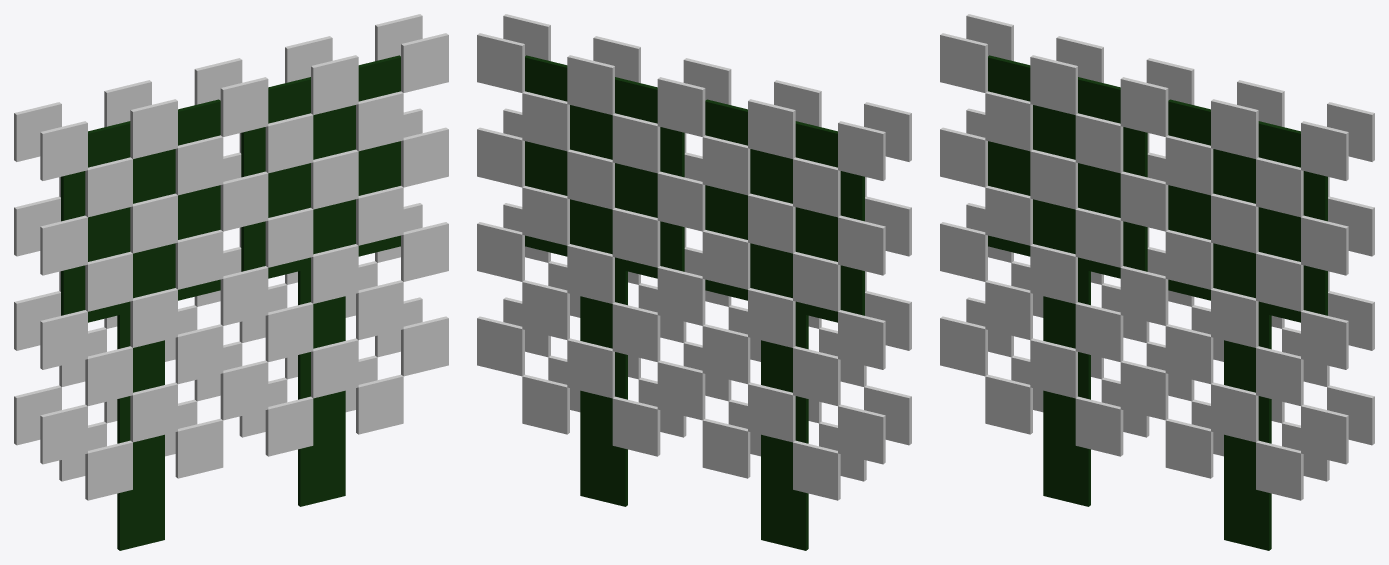
File: DozeFog.fbx
The picture shows the model from 3 angles, left to right: view 1: azimuth 30°, elevation 25°; view 2: azimuth 150°, elevation 25°; view 3: azimuth 330°, elevation 25°; orthographic projection.
Parts seen in each view (by area): view 1: Cube.009, Cube.011, Cube.008, Cube.010, Cube.002, Cube.033, Cube.024, Cube.034, Cube.003, Cube.001, Cube.005, Cube.023 (+48 smaller); view 2: Cube.009, Cube.011, Cube.008, Cube.010, Cube.051, Cube.069, Cube.060, Cube.070, Cube.041, Cube.050, Cube.052, Cube.059 (+48 smaller); view 3: Cube.011, Cube.009, Cube.010, Cube.008, Cube.002, Cube.033, Cube.024, Cube.032, Cube.007, Cube.001, Cube.005, Cube.023 (+48 smaller).
Part boxes in pixels (x1,y1,x2,y2): Cube.009: (241,55,400,278); Cube.011: (61,99,220,322); Cube.008: (298,268,345,506); Cube.010: (117,312,164,550); Cube.002: (220,77,268,136); Cube.033: (220,360,268,420); Cube.024: (220,171,268,231); Cube.034: (265,396,313,456); Cube.003: (175,324,223,384); Cube.001: (175,135,223,195); Cube.005: (265,113,313,173); Cube.023: (175,230,223,289); Cube.009: (525,55,684,278); Cube.011: (705,99,864,322); Cube.008: (580,268,627,506); Cube.010: (761,312,808,550); Cube.051: (657,77,705,136); Cube.069: (657,360,705,420); Cube.060: (657,171,705,231); Cube.070: (612,396,660,456); Cube.041: (702,324,750,384); Cube.050: (702,135,750,195); Cube.052: (612,113,660,173); Cube.059: (702,230,750,289); Cube.011: (988,55,1147,278); Cube.009: (1168,99,1327,322); Cube.010: (1043,268,1090,506); Cube.008: (1224,312,1271,550); Cube.002: (1120,77,1168,136); Cube.033: (1120,360,1168,420); Cube.024: (1120,171,1168,231); Cube.032: (1075,396,1123,456); Cube.007: (1165,324,1213,384); Cube.001: (1075,113,1123,173); Cube.005: (1165,135,1213,195); Cube.023: (1075,207,1123,267).
Size of the model in its own units: 180 by 190 by 22.
